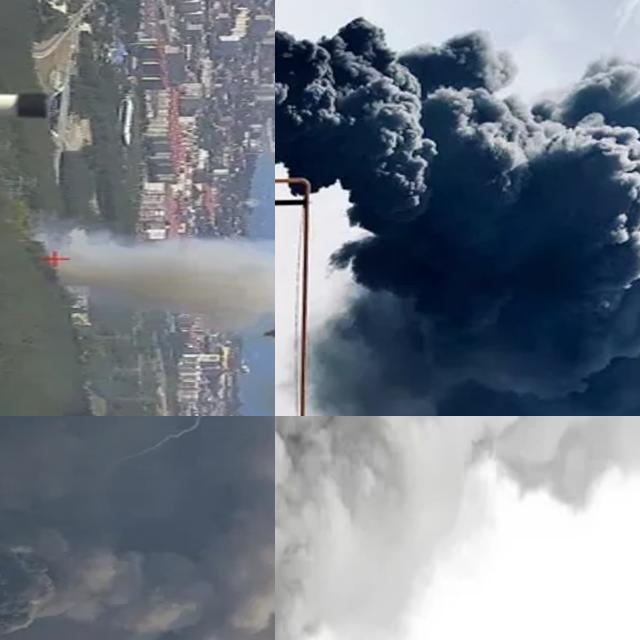smoke: (275, 10, 640, 416), (275, 416, 640, 640), (0, 416, 275, 640), (51, 219, 275, 416)
